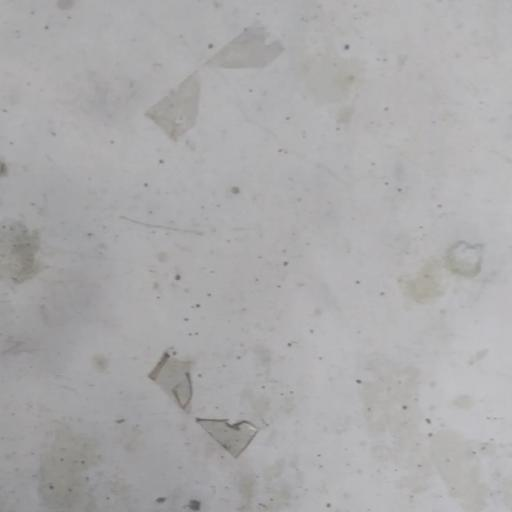stain: (94, 331, 294, 478), (134, 12, 294, 161), (374, 202, 504, 341), (0, 149, 64, 303)
